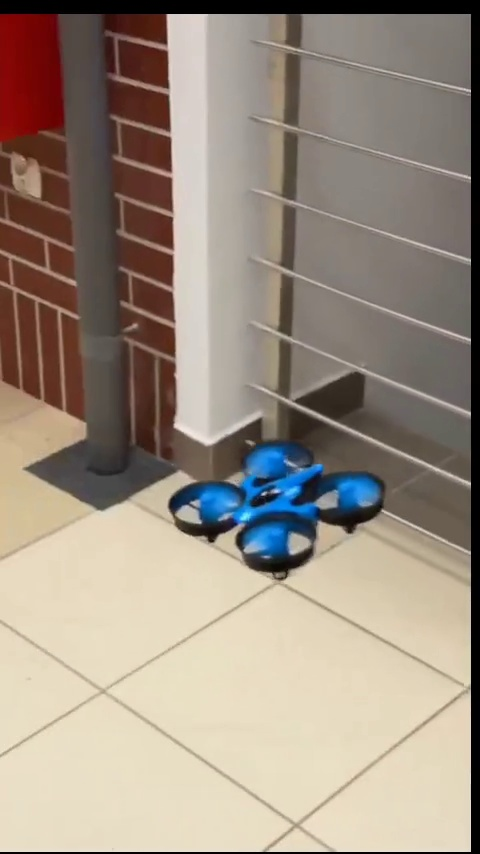drone: (174, 437, 387, 583)
